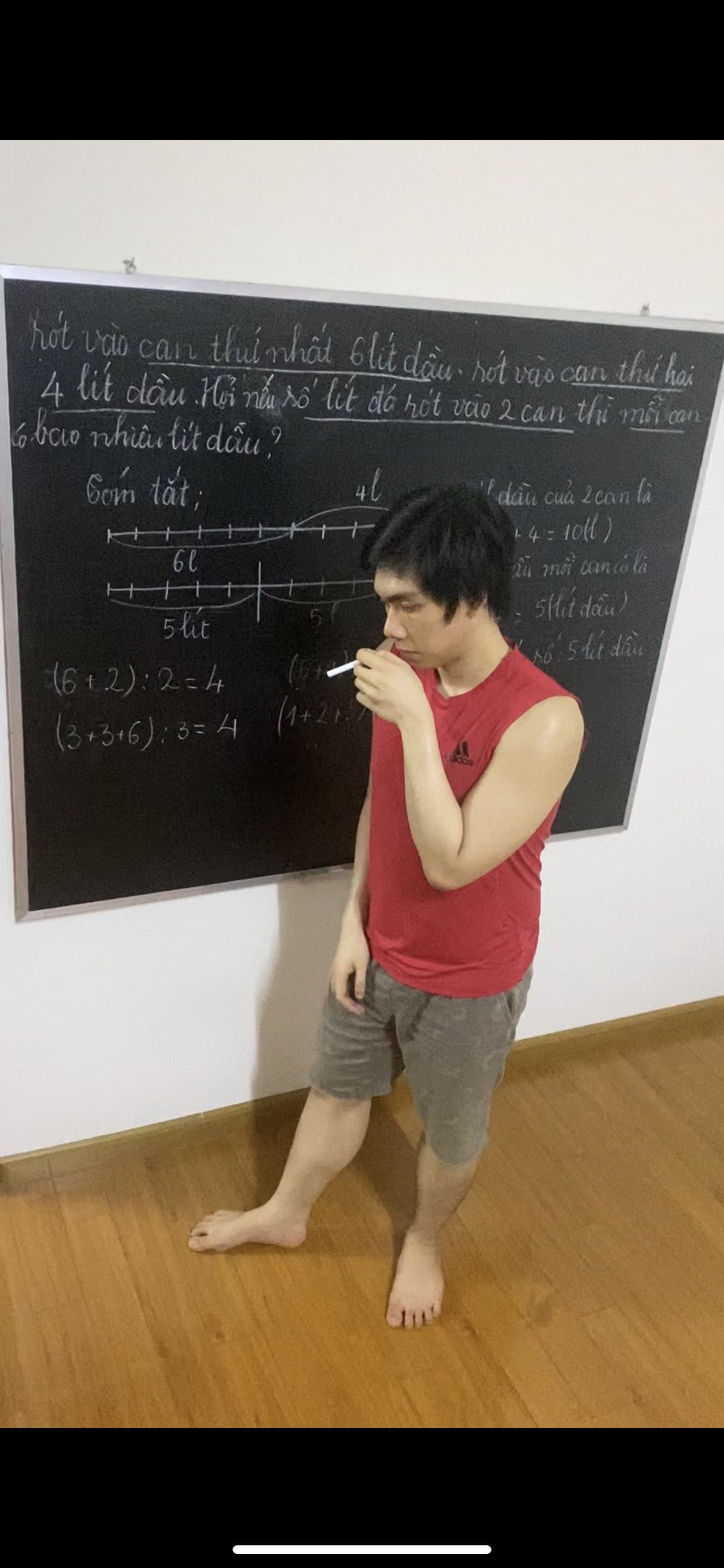cigarette: (323, 656, 360, 682)
person: (212, 479, 590, 1366)
